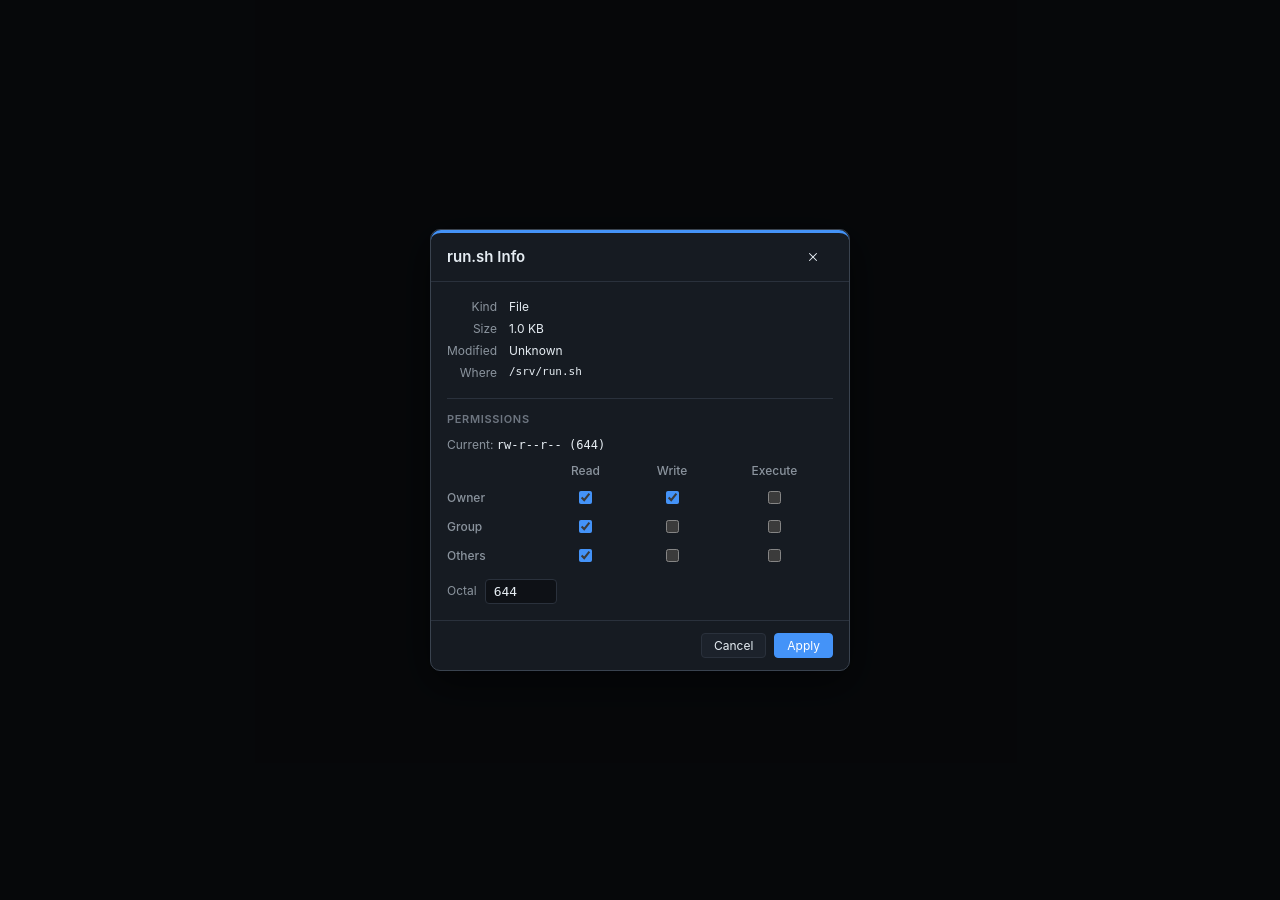
Test: ChmodDialog › keeps the grid and the octal field in step
Click the checkbox named "Owner execute".
click(775, 497)  # box [768,491,781,504]
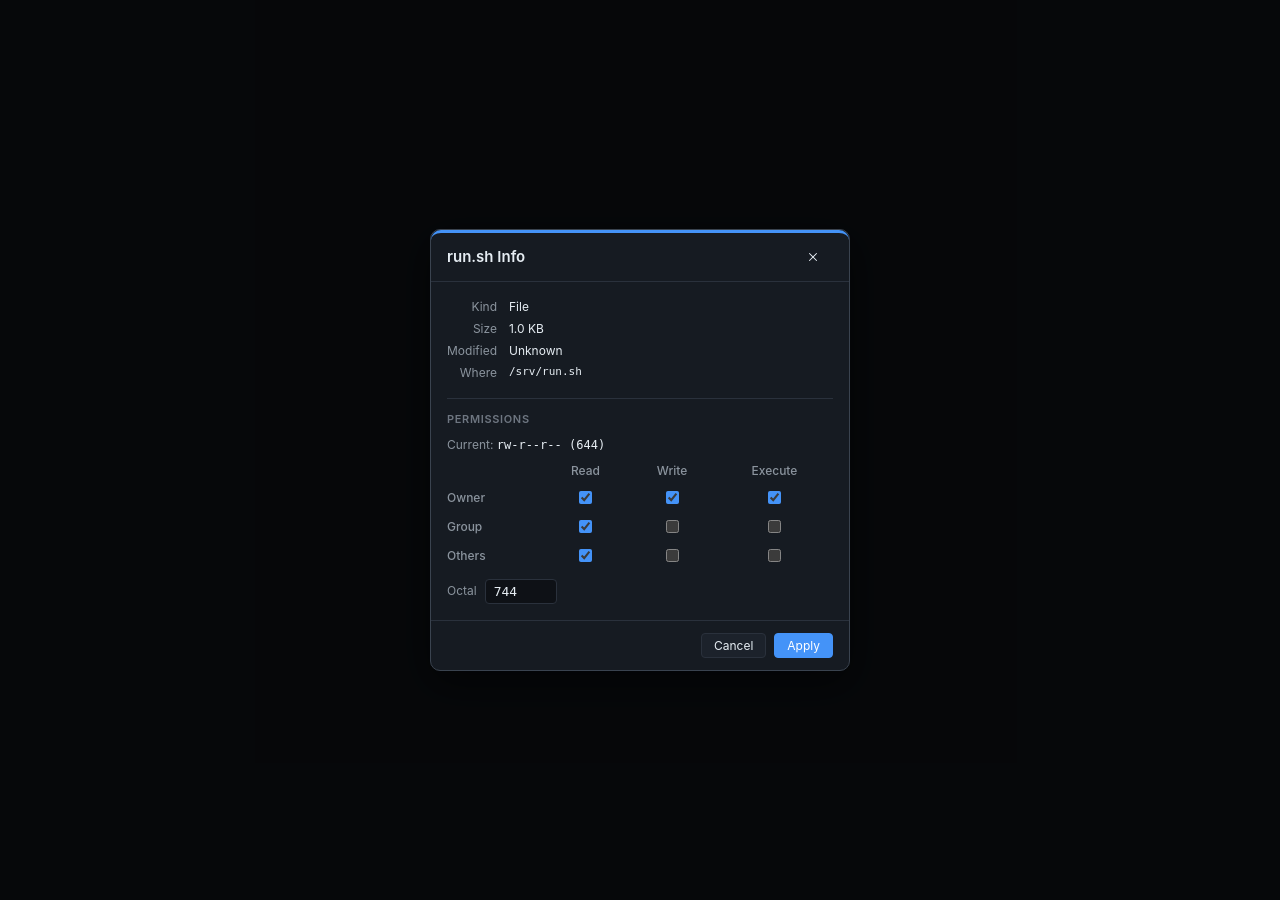
Expected: the field labelled "Octal" holds "744"
Replace the text in the field labelled "Octal" with "750" at (521, 591), box [485,579,557,604]
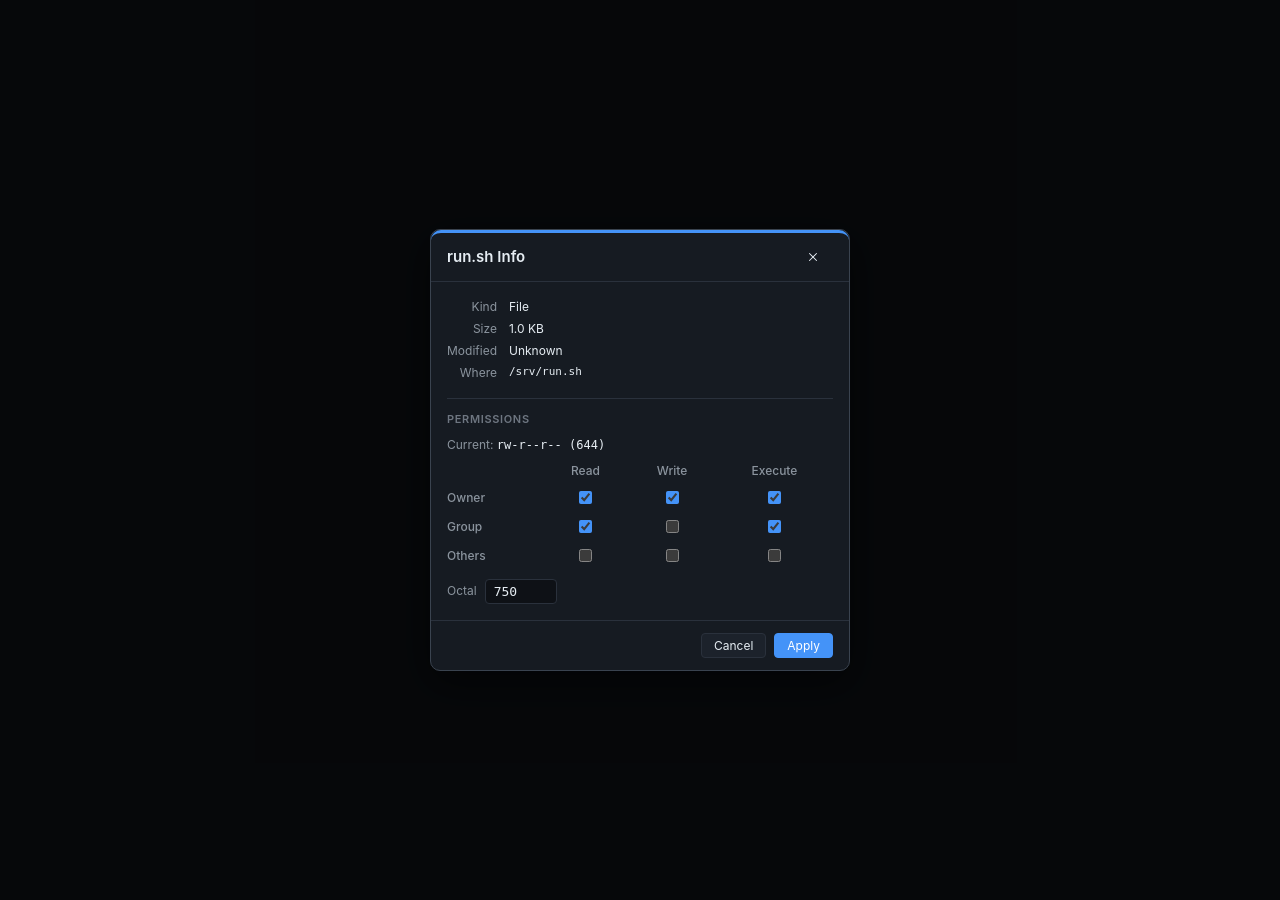
Expected: the checkbox named "Group execute" is checked, [768,520,781,533]
Expected: the checkbox named "Others read" is not checked, [580,549,592,562]
